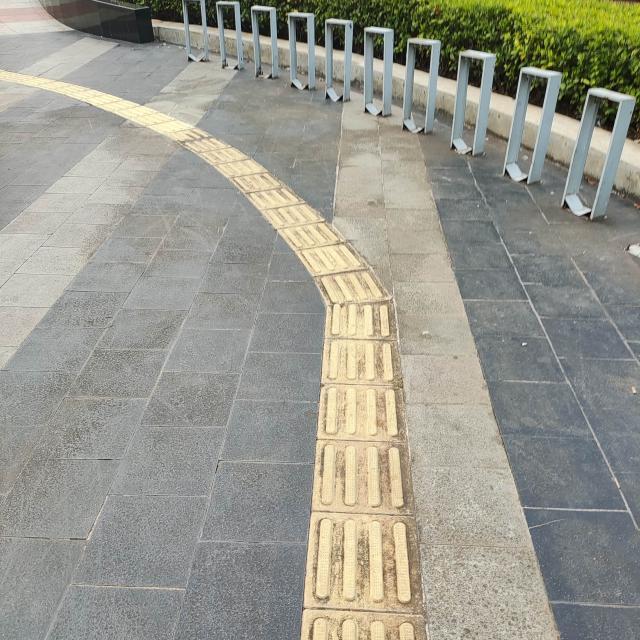lurus: (319, 293, 407, 640)
